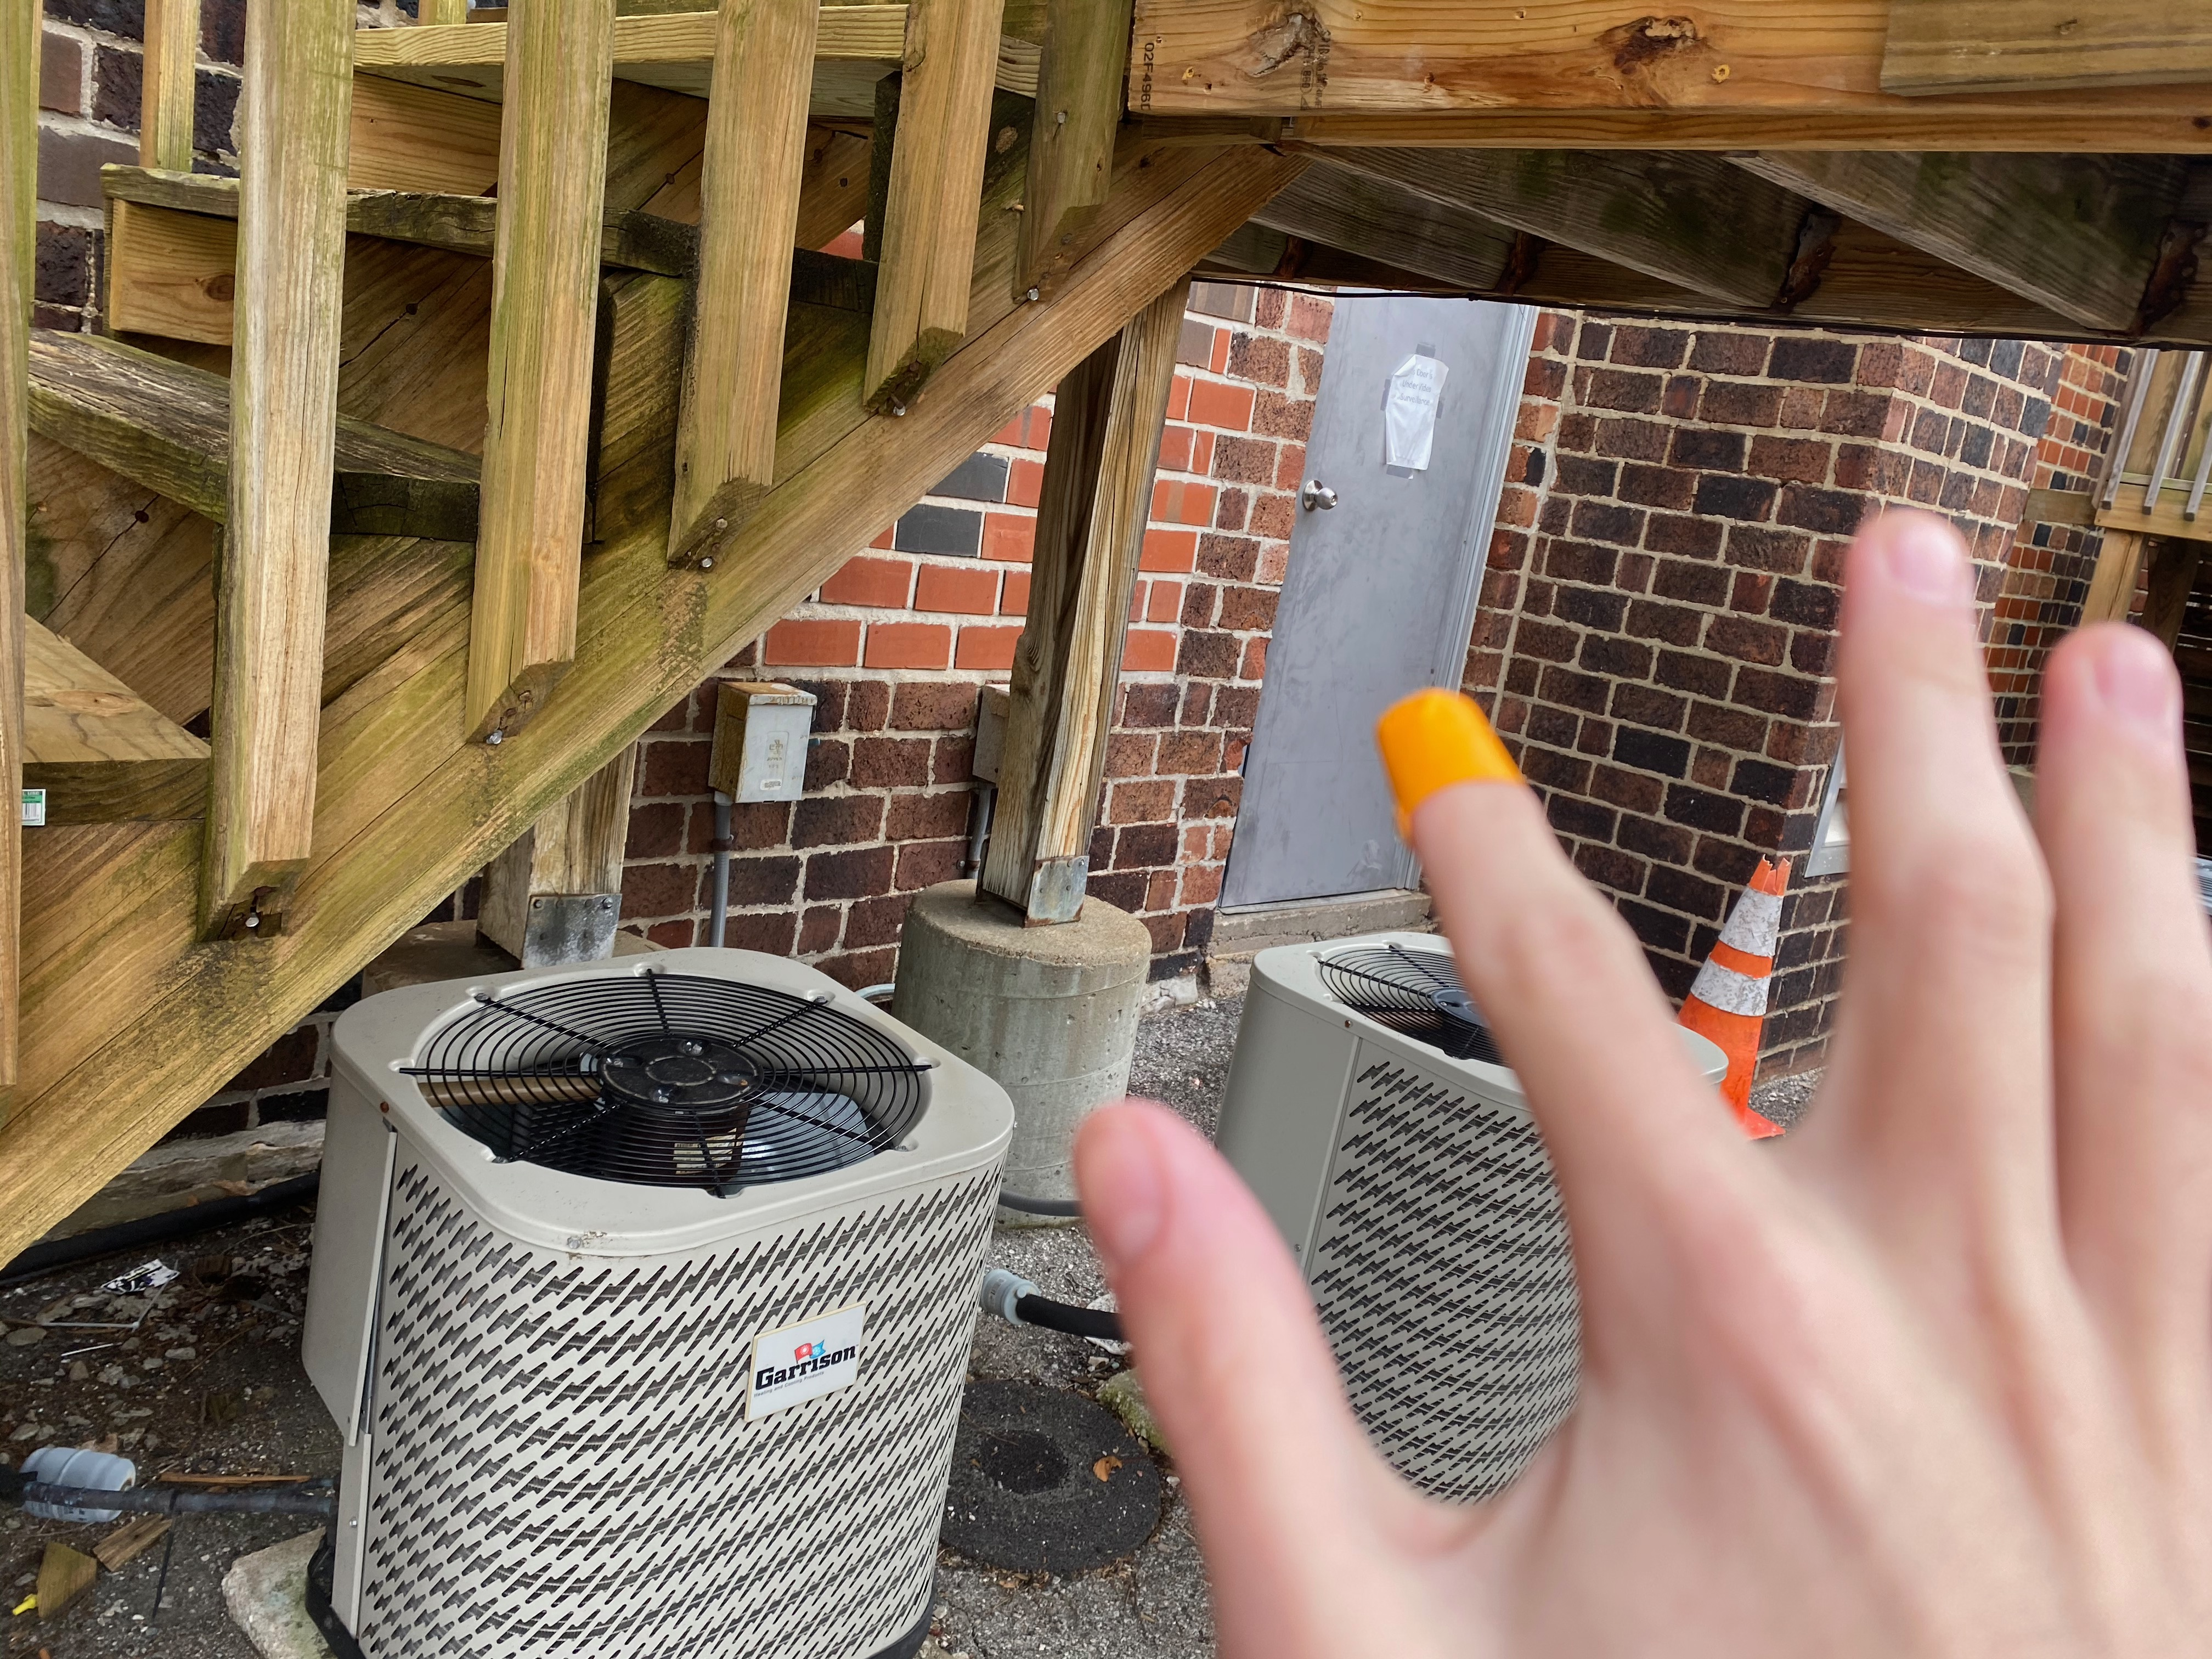fingertip: (1343, 674, 1552, 828)
